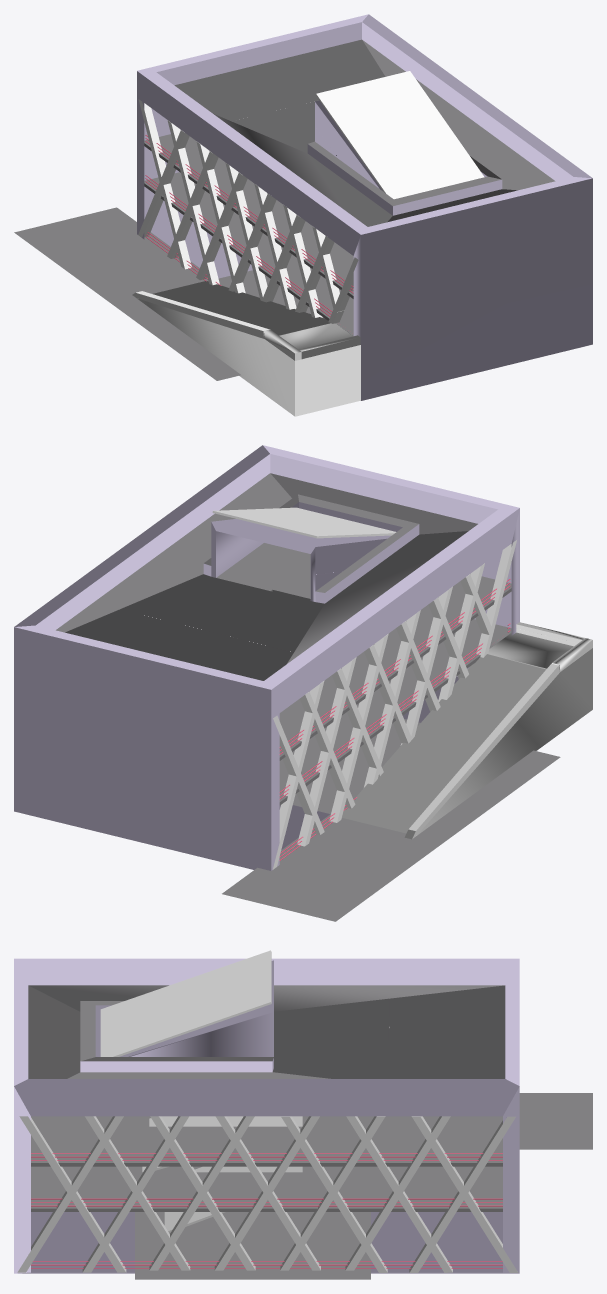
File: parking.glb
3 renders of one model, top to bottom at view 1: azimuth 30°, elevation 25°; view 2: azimuth 150°, elevation 25°; view 3: azimuth 270°, elevation 25°, orthographic. The views are drawn at different scales.
Visible parts, largest first — view 1: Asphalt_1; view 2: Asphalt_1; view 3: Asphalt_1.
Part boxes in pixels (left/top/right/bottom): Asphalt_1: left=14, top=14, right=592, bottom=416; Asphalt_1: left=14, top=445, right=592, bottom=921; Asphalt_1: left=14, top=950, right=592, bottom=1279.
Bounding box in the file's own units: 6.18 × 3.63 × 8.1.
